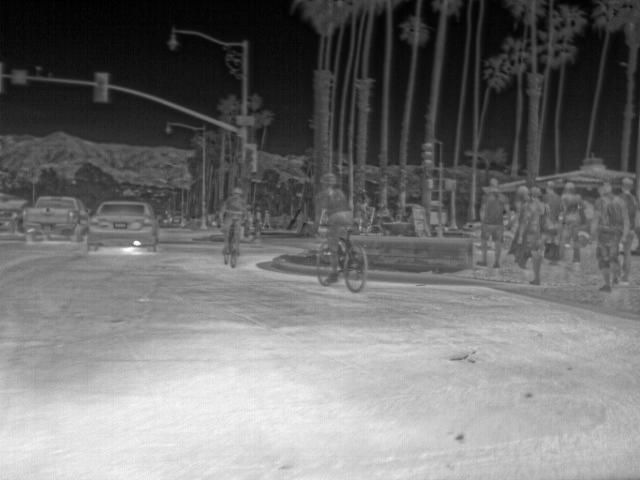car: (85, 197, 160, 249), (19, 191, 86, 239)
person: (315, 184, 359, 284), (589, 179, 625, 290), (473, 177, 511, 266), (514, 186, 545, 281), (553, 182, 590, 260), (221, 188, 253, 252)
